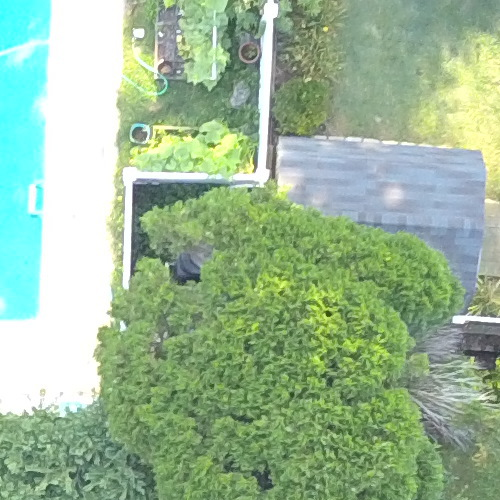flower pot: (238, 36, 266, 67)
